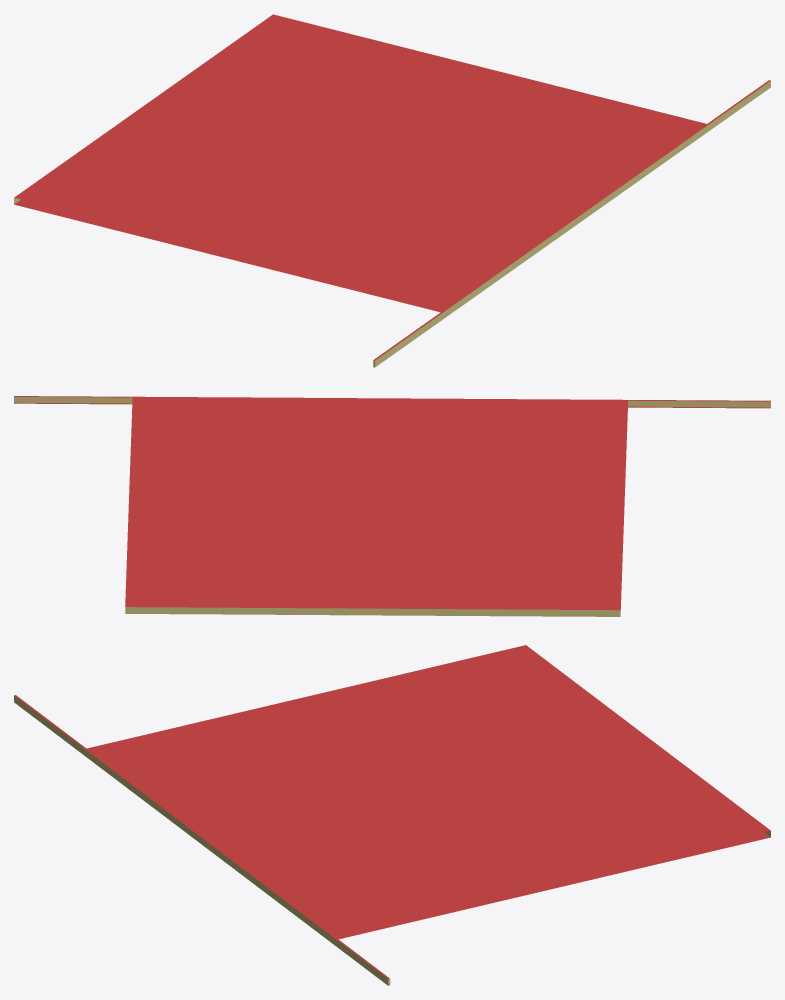
The picture shows the model from 3 angles, top to bottom: view 1: azimuth 30°, elevation 25°; view 2: azimuth 150°, elevation 25°; view 3: azimuth 270°, elevation 25°; orthographic projection.
Bounding box in the file's own units: 10.41 × 9.97 × 0.1.
